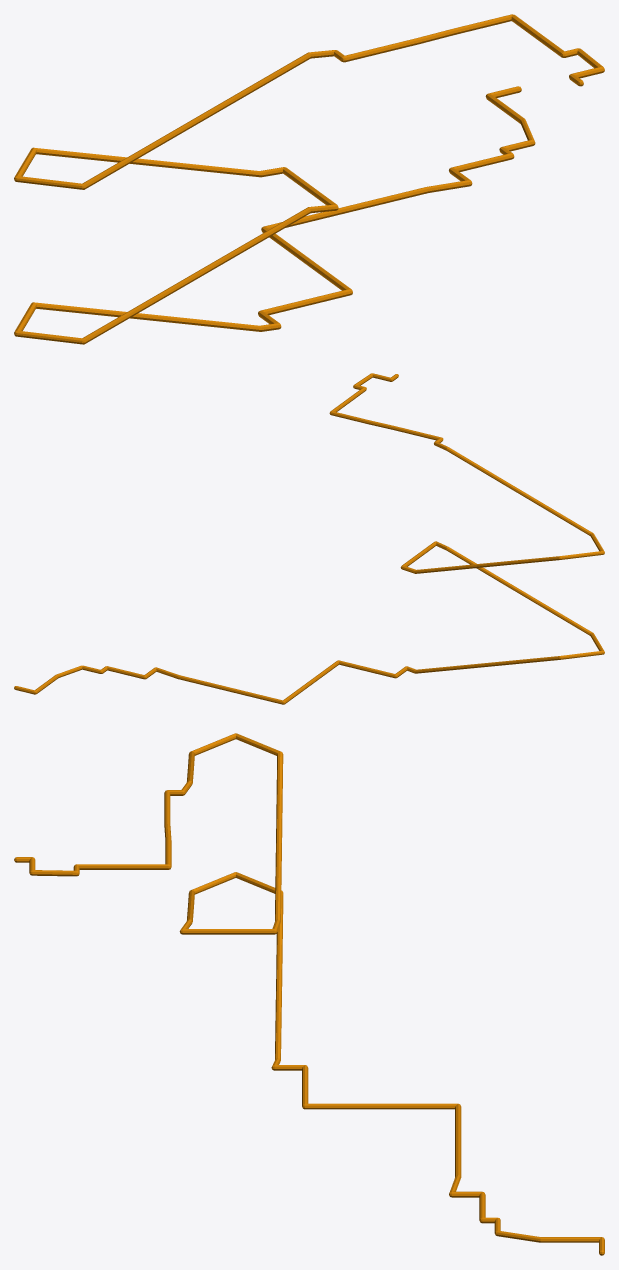
3 renders of one model, top to bottom at view 1: azimuth 30°, elevation 25°; view 2: azimuth 150°, elevation 25°; view 3: azimuth 270°, elevation 25°, orthographic. The views are drawn at different scales.
Size of the model in its own units: 2406 by 1020 by 1931.
